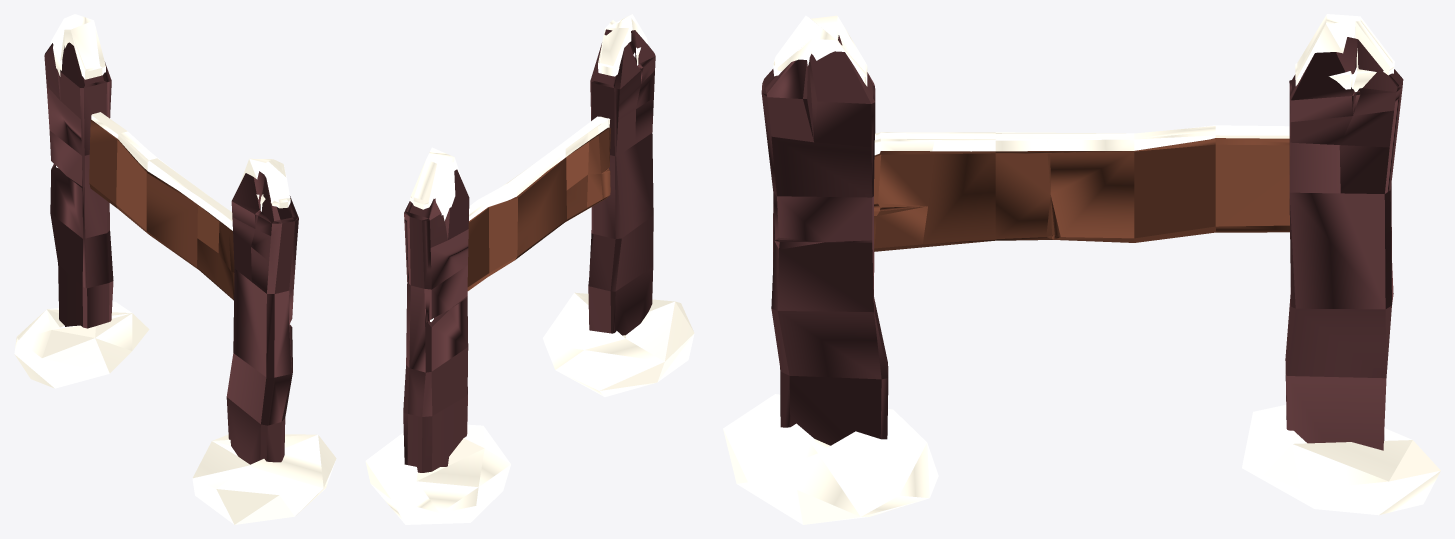
File: Fence1Asset.fbx
The picture shows the model from 3 angles, left to right: view 1: azimuth 30°, elevation 25°; view 2: azimuth 150°, elevation 25°; view 3: azimuth 270°, elevation 25°; orthographic projection. The views are drawn at different scales.
Visible parts, largest first — view 1: Fence1; view 2: Fence1; view 3: Fence1.
Boxes of the visible parts, x1,y1,x2,y2 form: Fence1: (14,14,336,524); Fence1: (365,14,694,524); Fence1: (723,14,1440,524).
Bounding box in the file's own units: 57.9 × 156 × 204.
